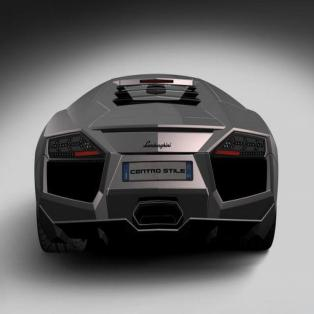Auto: (34, 72, 279, 256)
